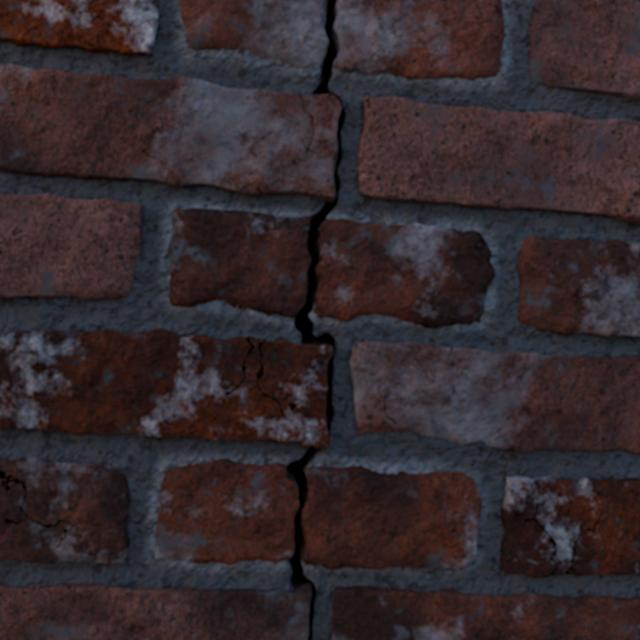broken_brick: (313, 218, 494, 328), (301, 466, 481, 569), (169, 208, 310, 317), (155, 458, 298, 564), (333, 0, 504, 79), (179, 0, 327, 68)
crack: (0, 0, 346, 639), (357, 96, 639, 224), (350, 340, 639, 453), (331, 586, 639, 639), (0, 194, 142, 300), (500, 476, 639, 577), (0, 457, 129, 563), (517, 236, 639, 337), (528, 0, 639, 99), (0, 0, 158, 55)
